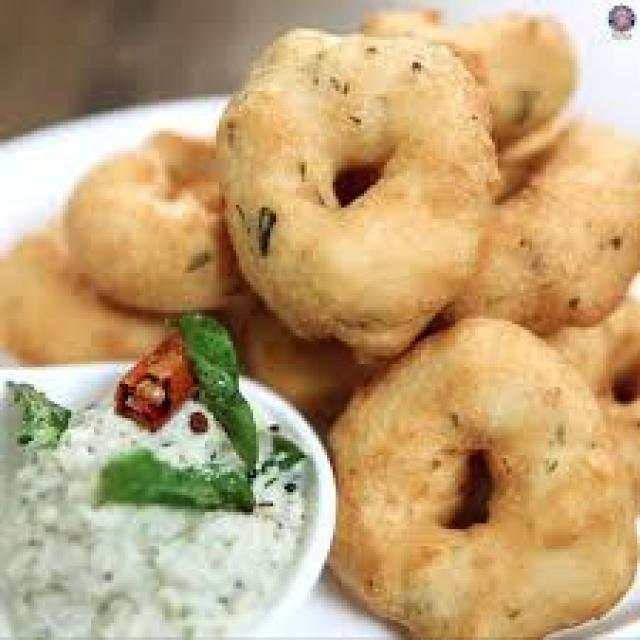MEDU VADA: (326, 321, 637, 637), (216, 28, 498, 359), (460, 127, 637, 334), (64, 127, 256, 313)
